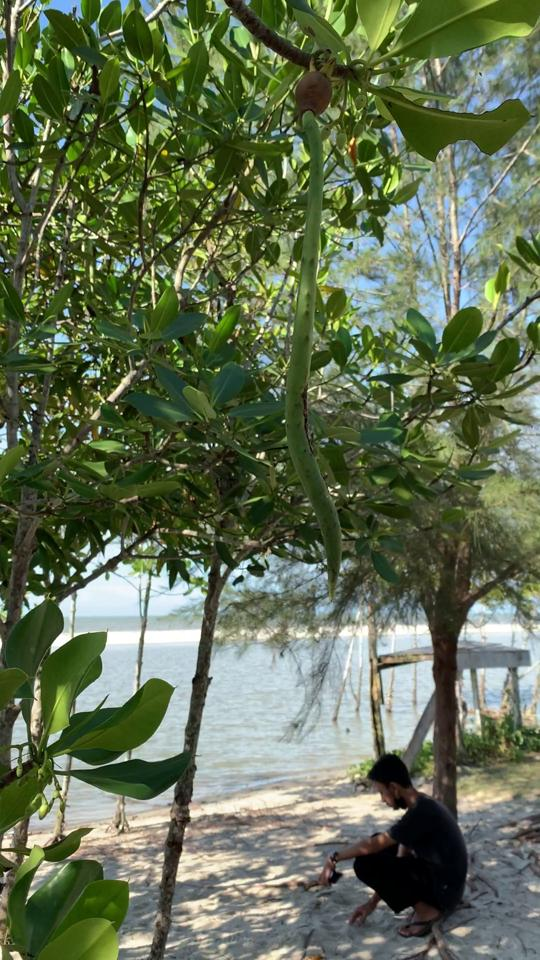setengah matang: (274, 44, 363, 603)
